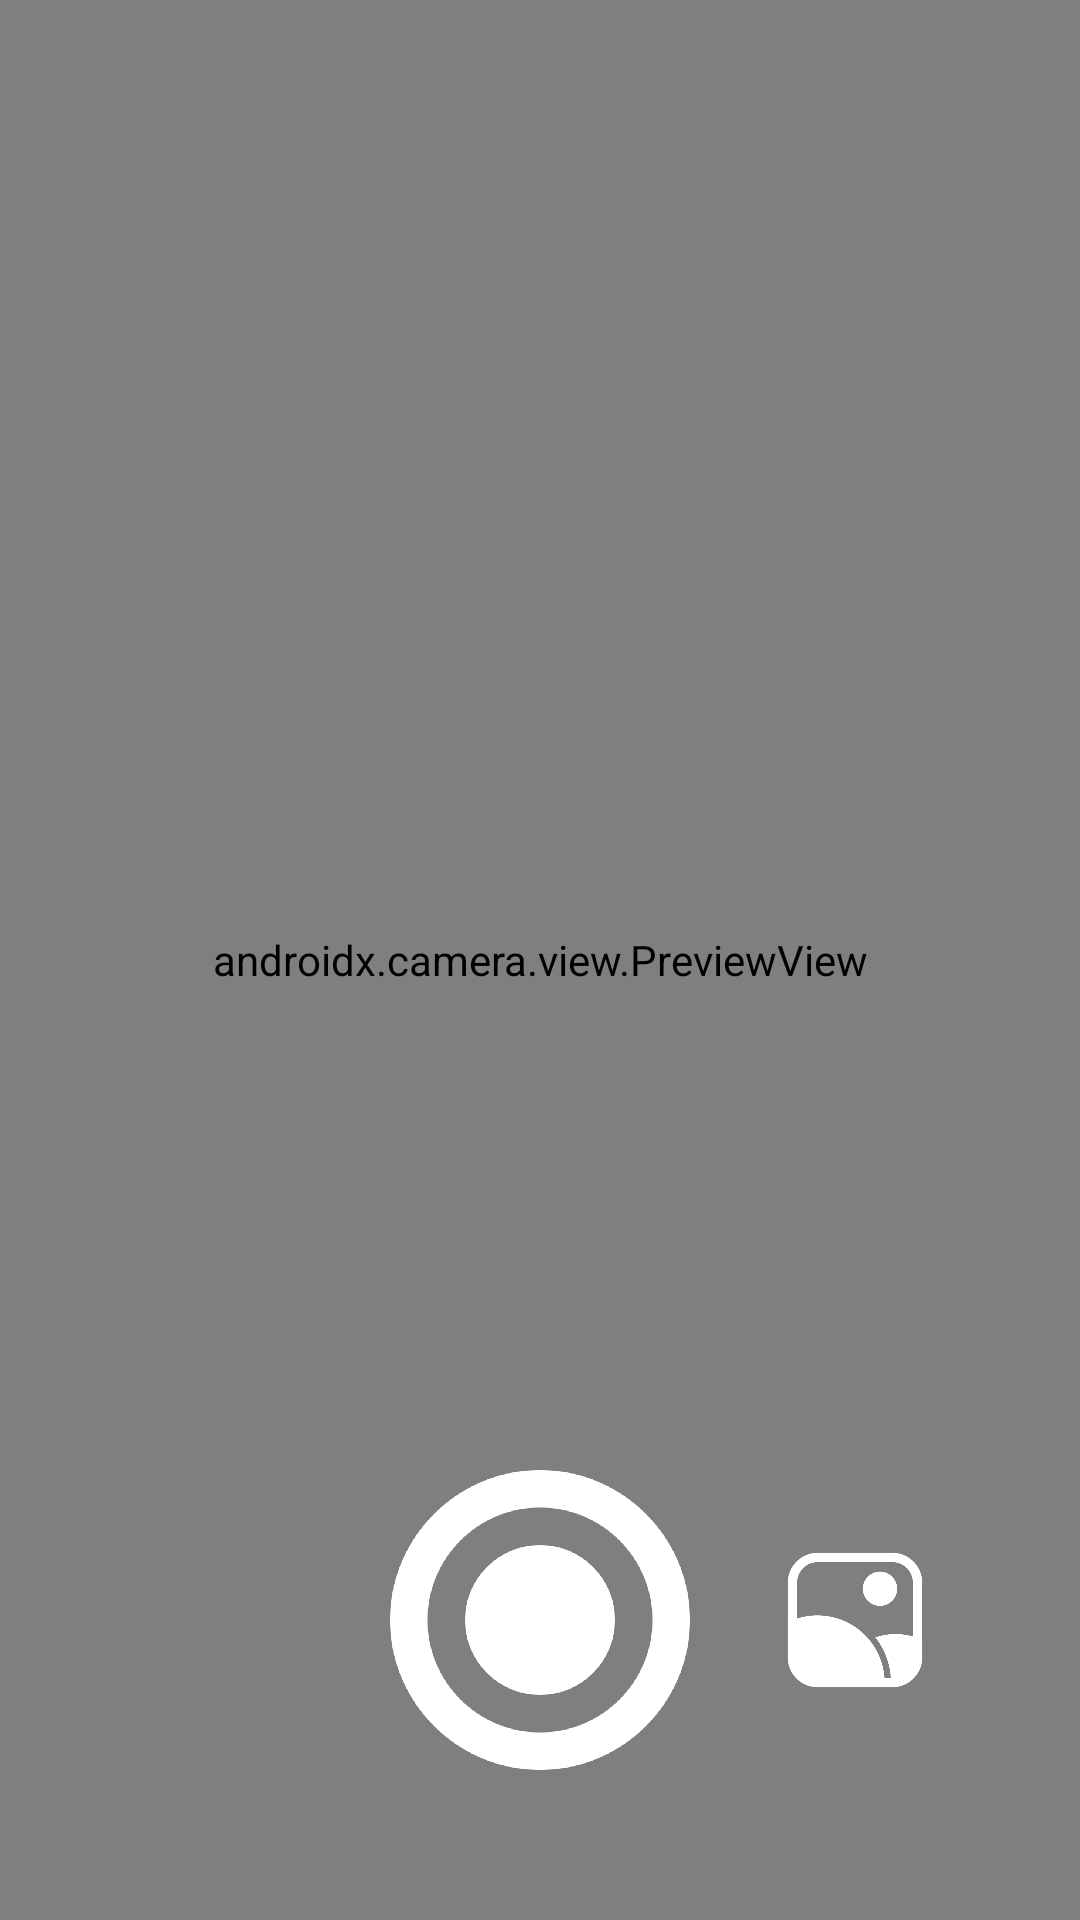

Named icons in this screenshot (1080w x 1920h) and their centers, point (x, y):
gallery: point (855, 1620)
